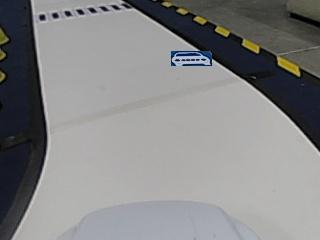crosswalk: (37, 3, 136, 21)
